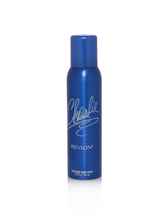other: (58, 32, 110, 184)
